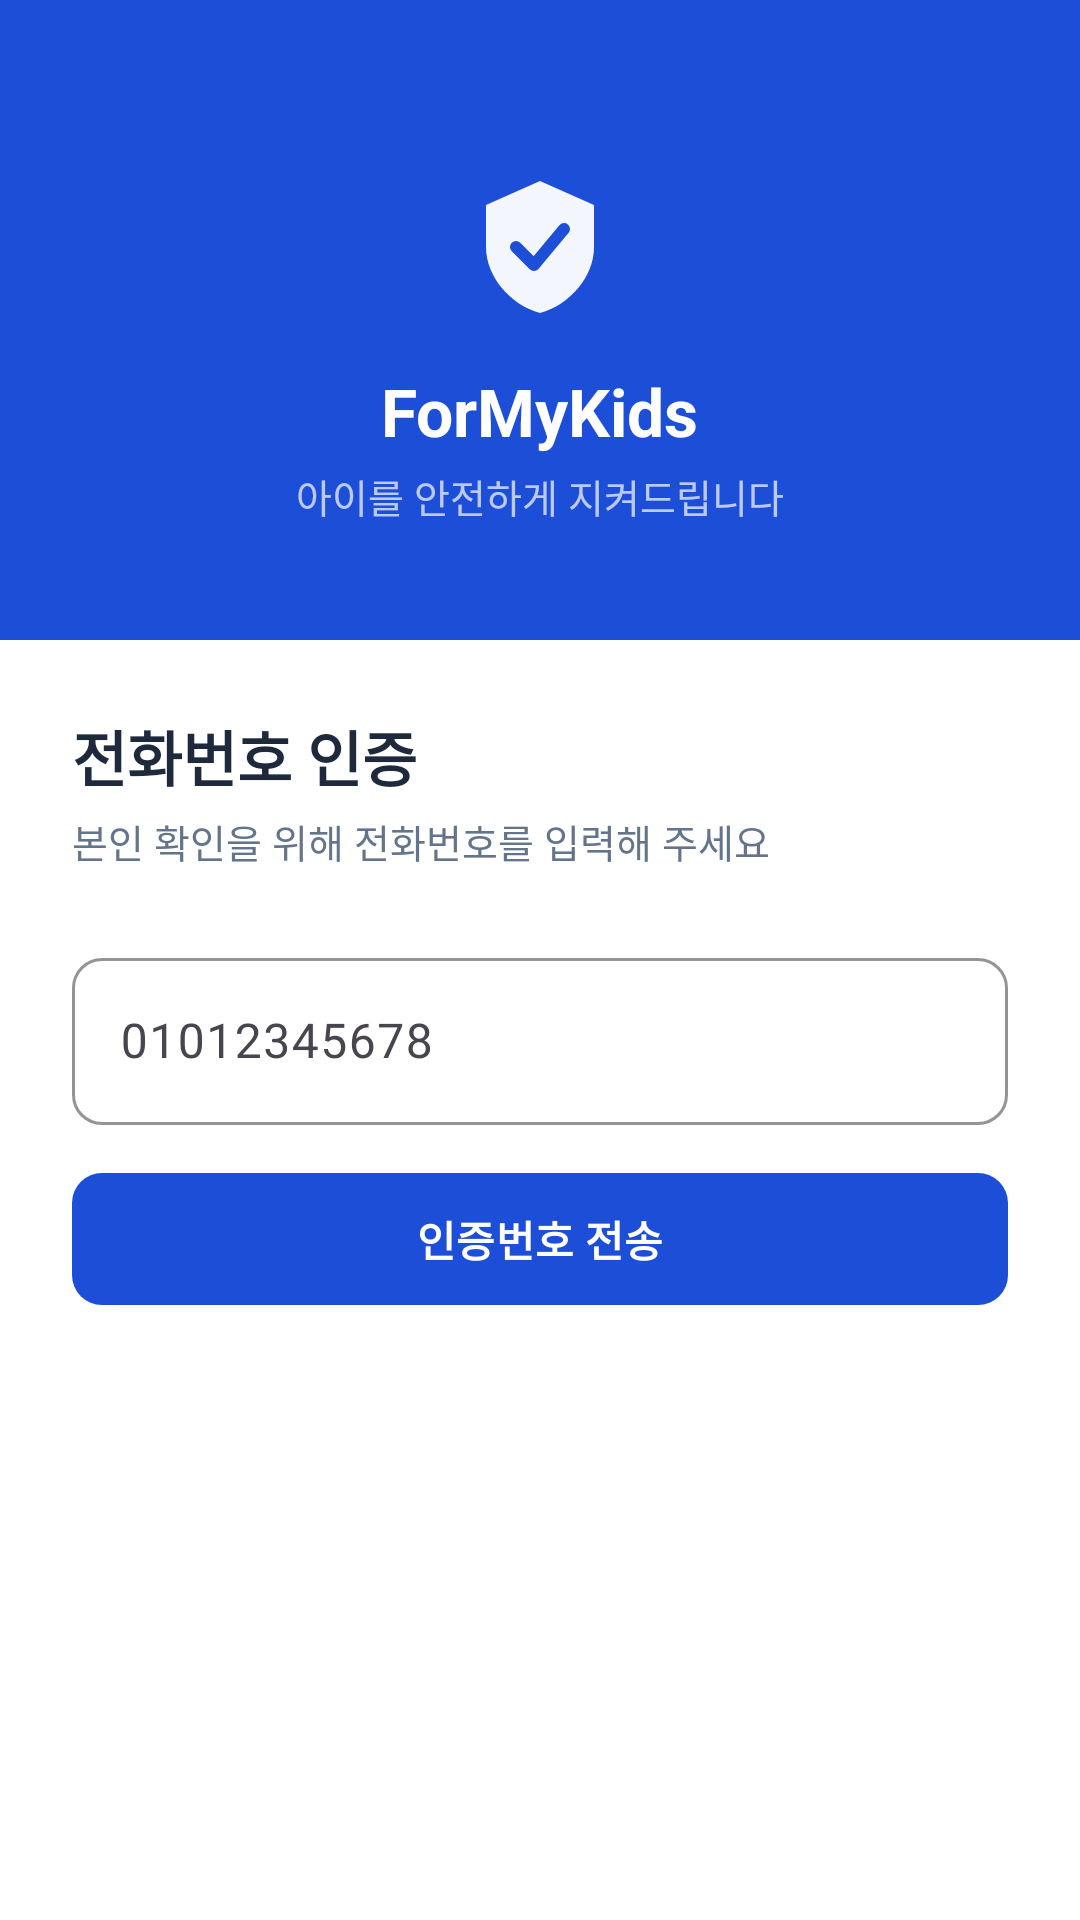

Icon bounding boxes for this 1080x1920 phone screenshot, format (x1, y1, x2, y2):
shield: (486, 181, 594, 313)
